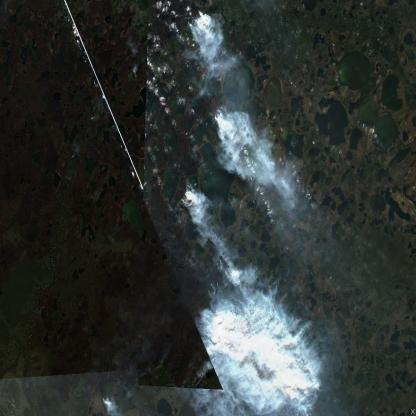fire: (207, 103, 232, 165), (185, 4, 209, 53), (181, 177, 194, 211), (99, 393, 112, 405)
